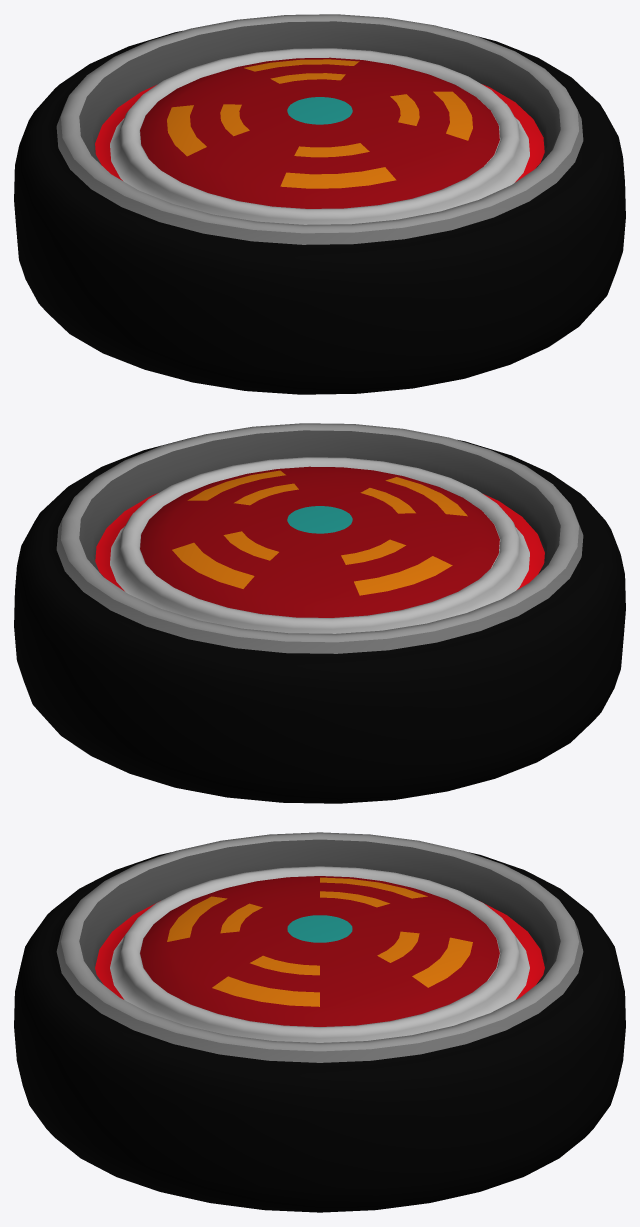
Rendered from mesh_Spaceship_Hockey_Puck.fbx.
3 views of the same model, one above another, from view 1: azimuth 30°, elevation 25°; view 2: azimuth 150°, elevation 25°; view 3: azimuth 270°, elevation 25° (orthographic).
Visible parts, largest first — view 1: mesh_Spaceship_Hockey_Puck; view 2: mesh_Spaceship_Hockey_Puck; view 3: mesh_Spaceship_Hockey_Puck.
Part boxes in pixels (box(x1,y1,x2,y2)): mesh_Spaceship_Hockey_Puck: box(14, 14, 625, 394); mesh_Spaceship_Hockey_Puck: box(14, 423, 625, 803); mesh_Spaceship_Hockey_Puck: box(14, 832, 625, 1212).
Bounding box in the file's own units: 2.96 × 0.8673 × 2.96.
